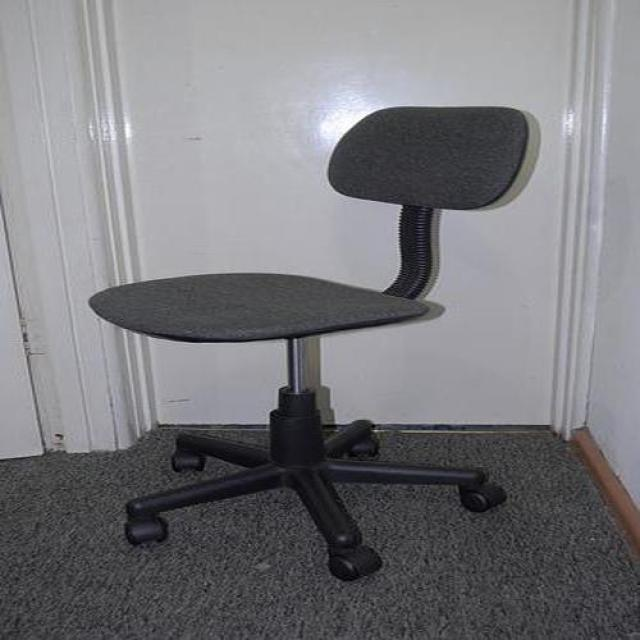swivelchair: (88, 108, 539, 585)
